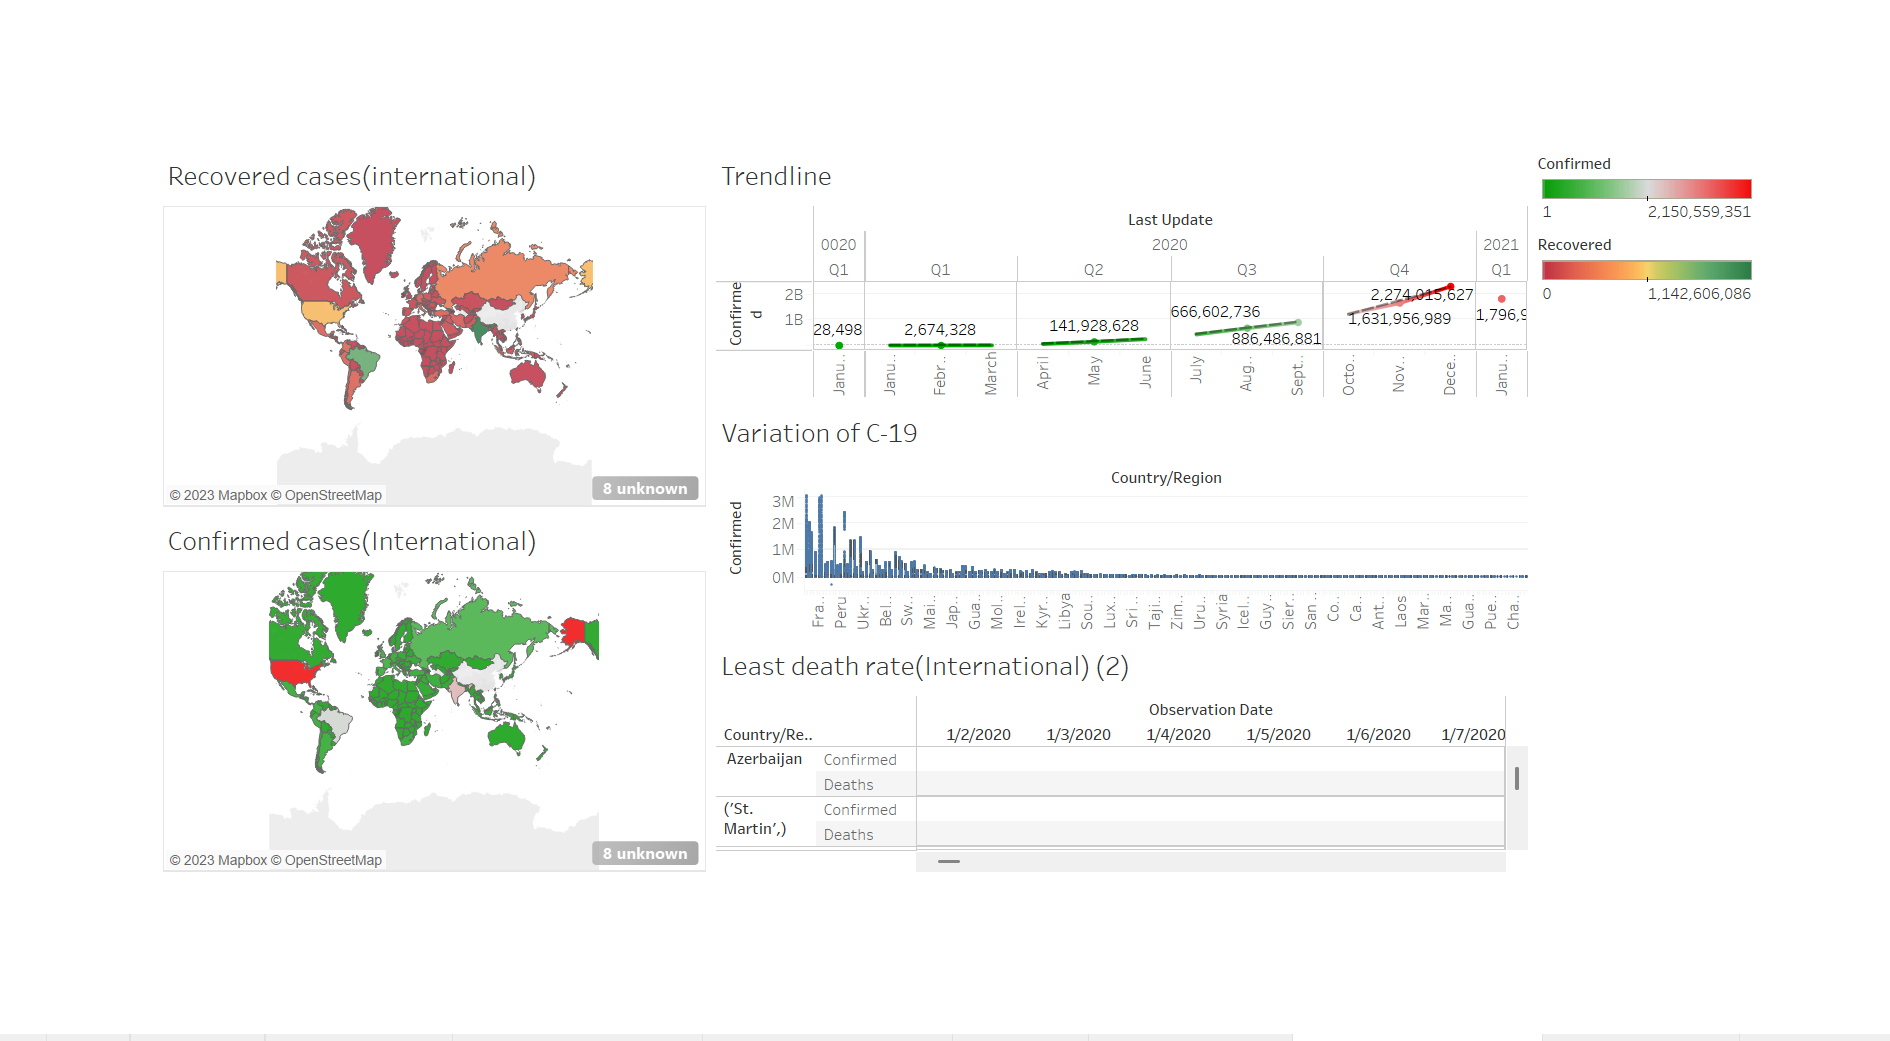

What the dashboard file says about the page in this screenshot:
{"tool":"tableau","page":{"name":"C-19 International Dashboard ","canvas":[1300,600],"ordinal":1},"visuals":[{"type":"worksheet","title":"Recovered cases(international)","mark":"Automatic","box":[8,8,443,292]},{"type":"worksheet","title":"Trendline(INT)","mark":"Line","rows":["Confirmed"],"cols":["Last Update","Last Update","Last Update"],"box":[451,8,657,206]},{"type":"legend","title":"Confirmed cases(International)","param":"[federated.1o1jc6w1tmrs8q1296ia314v4bgb].[sum:Confirmed:qk]","box":[1108,8,184,65]},{"type":"legend","title":"Recovered cases(international)","param":"[federated.1o1jc6w1tmrs8q1296ia314v4bgb].[sum:Recovered:qk]","box":[1108,73,184,65]},{"type":"worksheet","title":"Variation of C-19","mark":"Circle","rows":["Confirmed"],"cols":["Country/Region"],"box":[451,214,657,186]},{"type":"worksheet","title":"Confirmed cases(International)","mark":"Multipolygon","box":[8,300,443,292]},{"type":"worksheet","title":"Least death rate(International) (2)","mark":"Automatic","rows":["Country/Region"],"cols":["ObservationDate"],"box":[451,400,657,192]}]}

Visuals, with their boxes on the page's 1300x600 design canvas (x1, y1, x2, y2). These are canvas units, not pixel positions in the 1890x1041 screenshot, which may show the page scaled, cropped or inside an application window:
"Recovered cases(international)" worksheet: x1=8 y1=8 x2=451 y2=300
"Trendline(INT)" worksheet (Line marks): x1=451 y1=8 x2=1108 y2=214
"Confirmed cases(International)" legend: x1=1108 y1=8 x2=1292 y2=73
"Recovered cases(international)" legend: x1=1108 y1=73 x2=1292 y2=138
"Variation of C-19" worksheet (Circle marks): x1=451 y1=214 x2=1108 y2=400
"Confirmed cases(International)" worksheet (Multipolygon marks): x1=8 y1=300 x2=451 y2=592
"Least death rate(International) (2)" worksheet: x1=451 y1=400 x2=1108 y2=592
